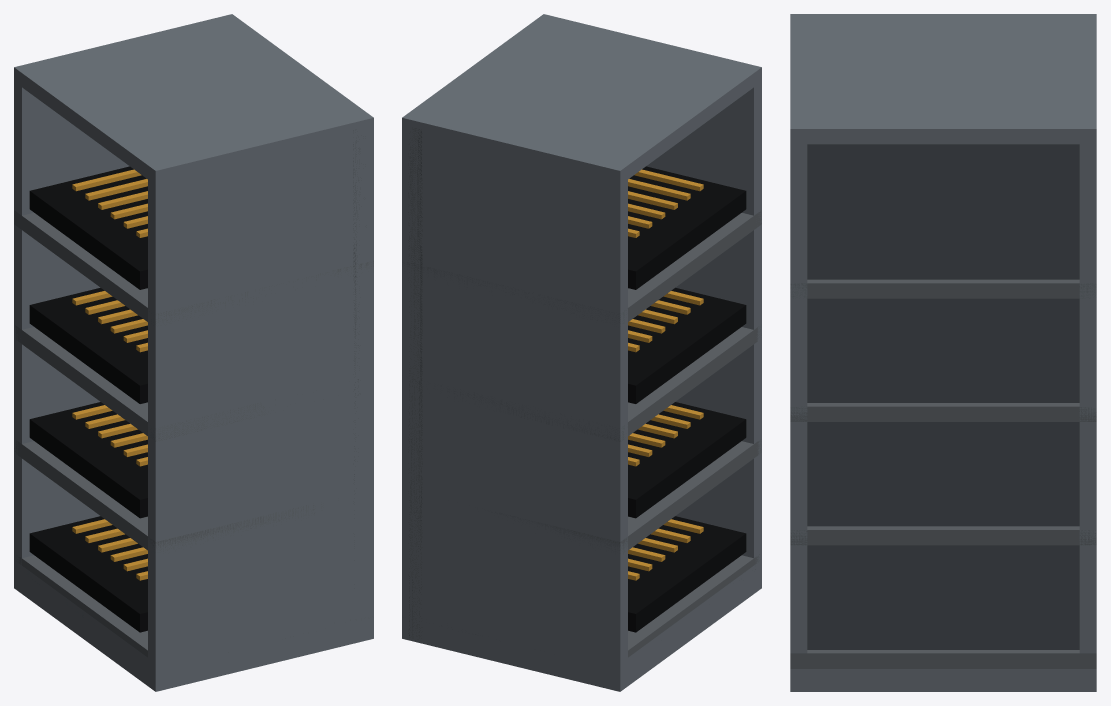
The model's file is L32_USB_1234.fbx.
The picture shows the model from 3 angles, left to right: view 1: azimuth 30°, elevation 25°; view 2: azimuth 150°, elevation 25°; view 3: azimuth 270°, elevation 25°; orthographic projection. The views are drawn at different scales.
Parts seen in each view (by area): view 1: USB_1234_Steel, USB_1234_Black, USB_1234_Silver, USB_1234_Gold; view 2: USB_1234_Steel, USB_1234_Black, USB_1234_Silver, USB_1234_Gold, USB_1234_Gray; view 3: USB_1234_Gray, USB_1234_Steel, USB_1234_Silver.
Part boxes in pixels (x1,y1,x2,y2): USB_1234_Steel: [14, 14, 373, 691]; USB_1234_Black: [29, 166, 147, 632]; USB_1234_Silver: [14, 210, 373, 657]; USB_1234_Gold: [72, 169, 147, 580]; USB_1234_Steel: [402, 14, 761, 691]; USB_1234_Black: [628, 166, 746, 632]; USB_1234_Silver: [402, 210, 761, 657]; USB_1234_Gold: [628, 169, 703, 580]; USB_1234_Gray: [408, 128, 422, 640]; USB_1234_Gray: [807, 144, 1079, 649]; USB_1234_Steel: [790, 14, 1096, 691]; USB_1234_Silver: [790, 279, 1096, 668].
Size of the model in its own units: 1.6 by 3.65 by 1.8.
